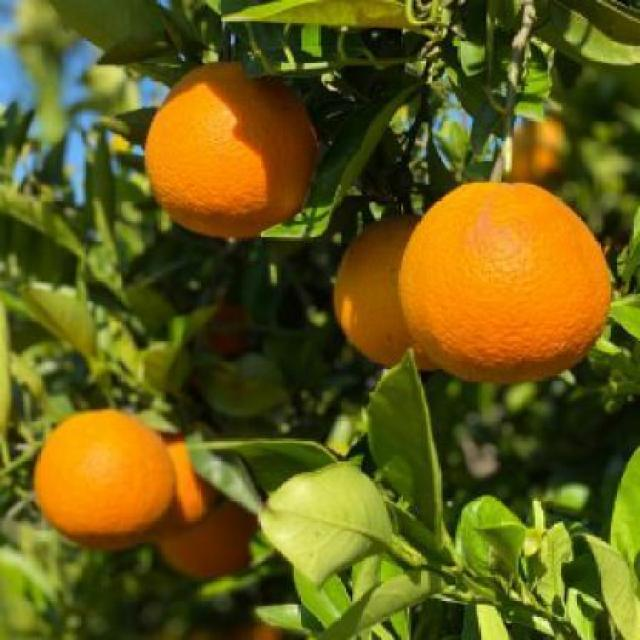Jeruk Sudah Matang: (401, 178, 614, 380), (147, 60, 324, 234), (334, 203, 484, 380), (32, 409, 175, 546), (147, 430, 275, 573)
